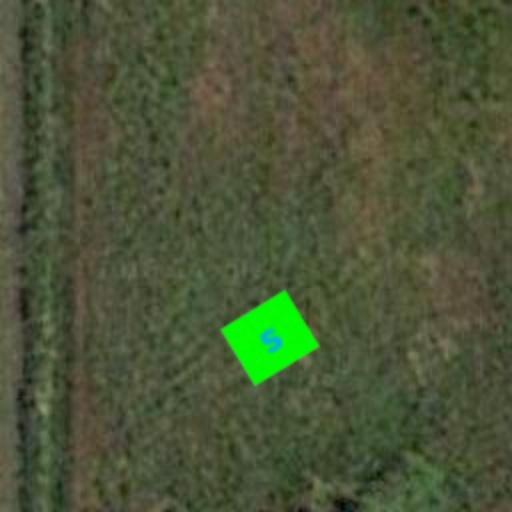rectangle: (216, 284, 324, 392)
